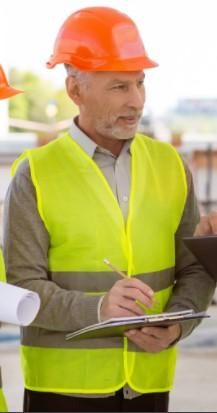hat: (42, 2, 185, 121), (1, 32, 37, 138)
vest: (20, 119, 202, 413)
